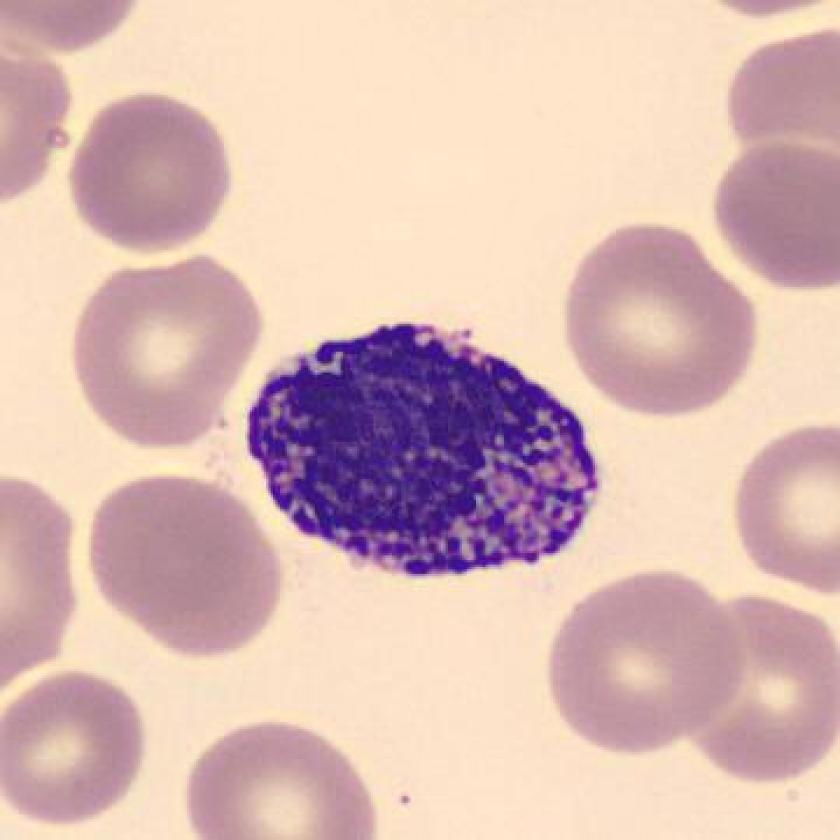basophil: (232, 300, 608, 591)
